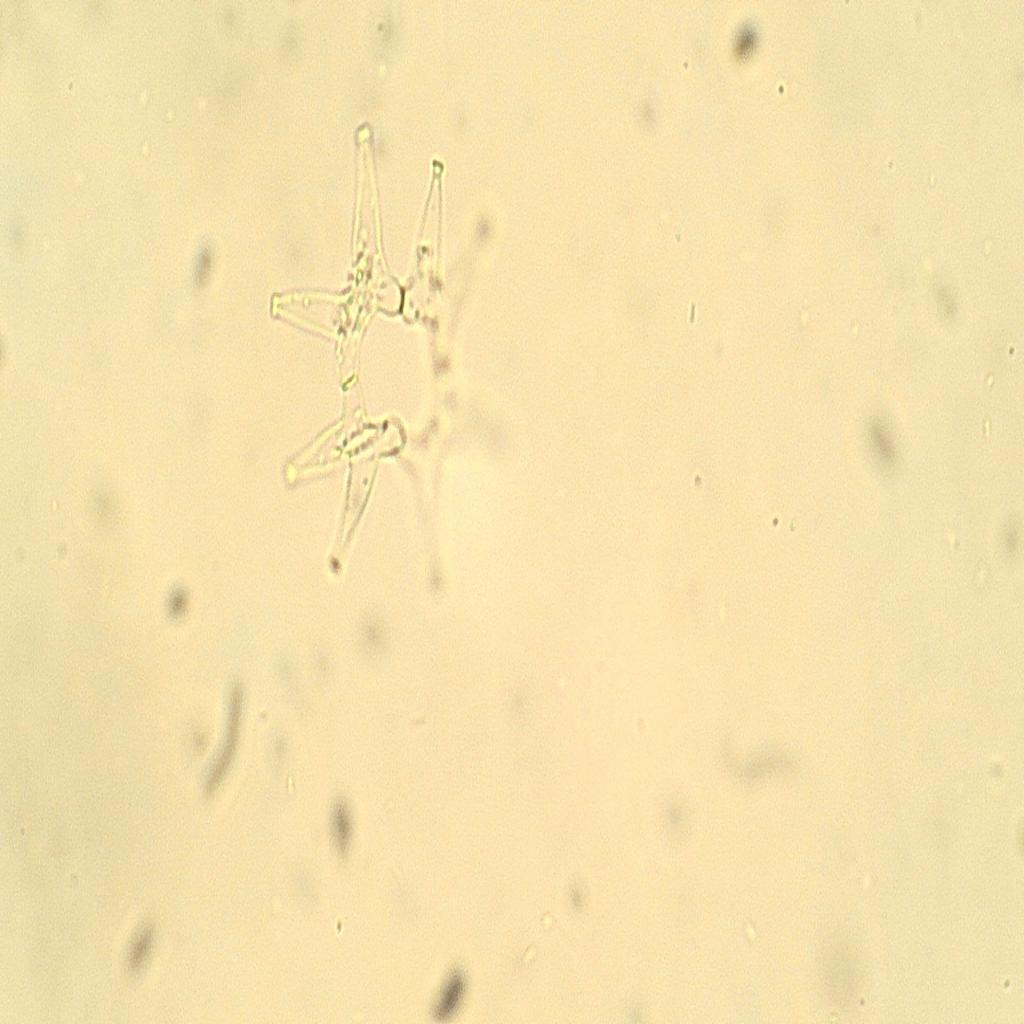Pediastrum_75TH: (252, 112, 556, 663)
